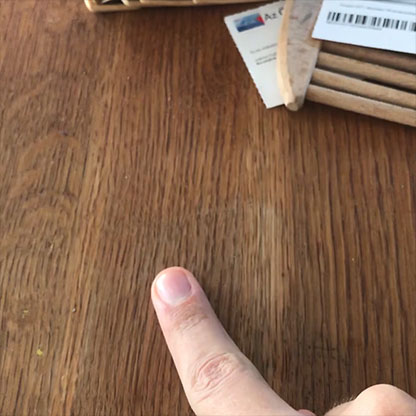fingertip: (140, 256, 214, 318)
